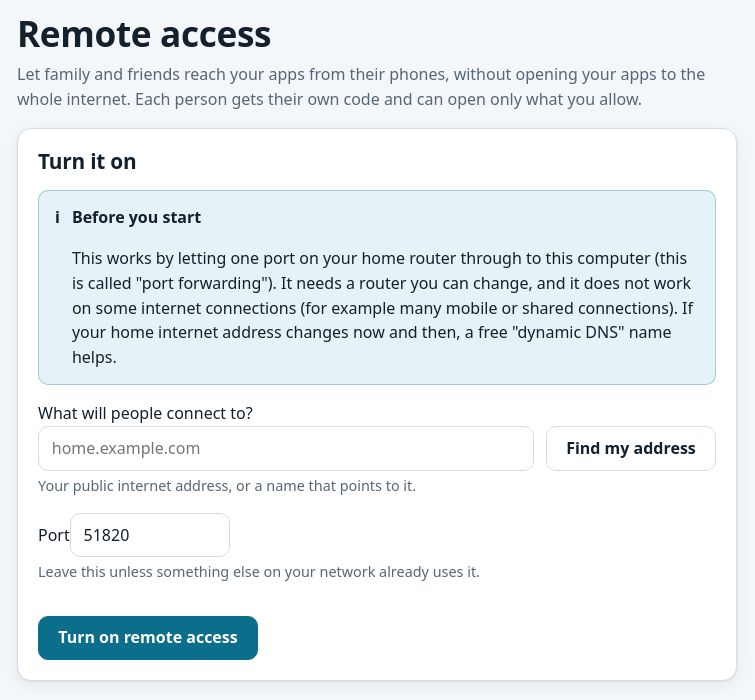
Scenario: turning remote access on › fills in the public address when asked
Click the button "Find my address": (631, 448) x1=546 y1=426 x2=716 y2=470
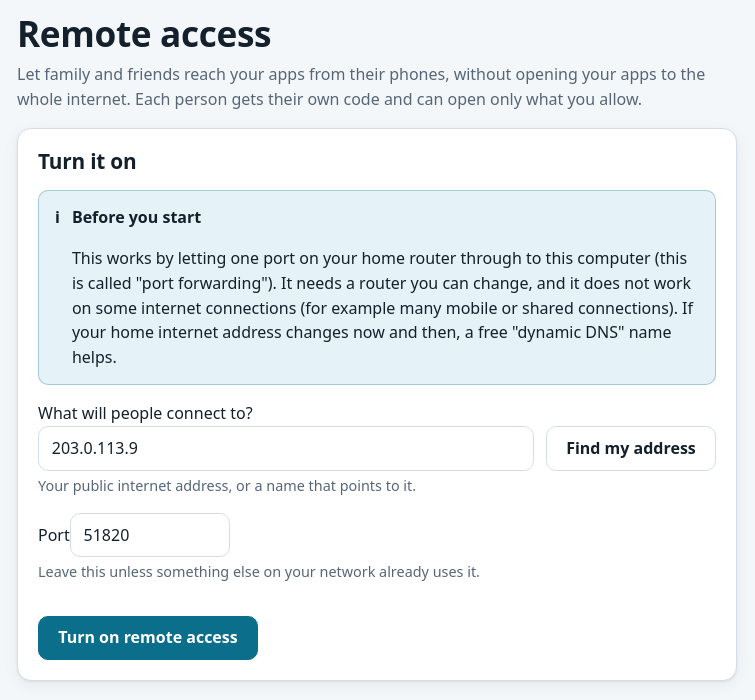
Expected: the field labelled "What will people connect to?" holds "203.0.113.9", x1=38 y1=426 x2=534 y2=470
